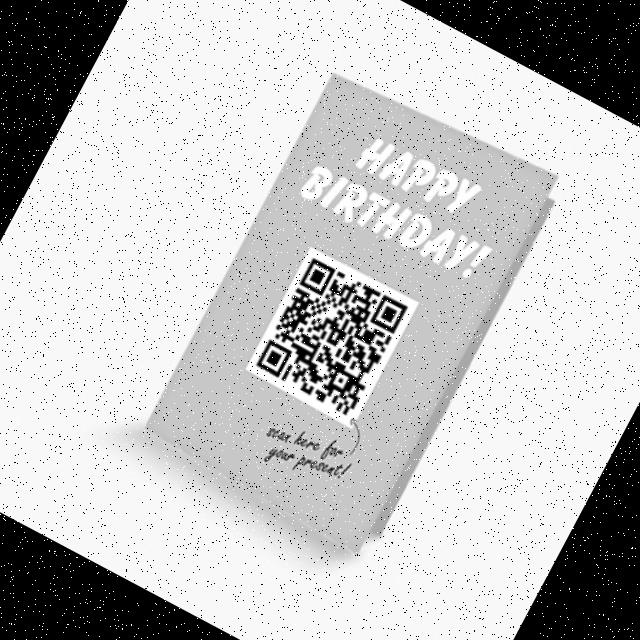QR-codes: (251, 250, 413, 420)
